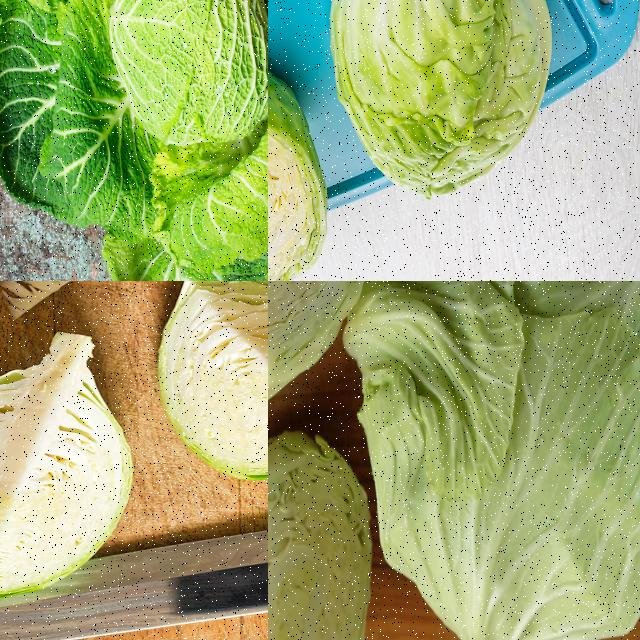cabbage: (338, 281, 639, 639), (326, 0, 554, 206), (0, 327, 135, 605), (268, 407, 378, 639), (112, 0, 267, 149), (156, 281, 267, 483), (268, 281, 398, 446), (268, 48, 331, 280)
